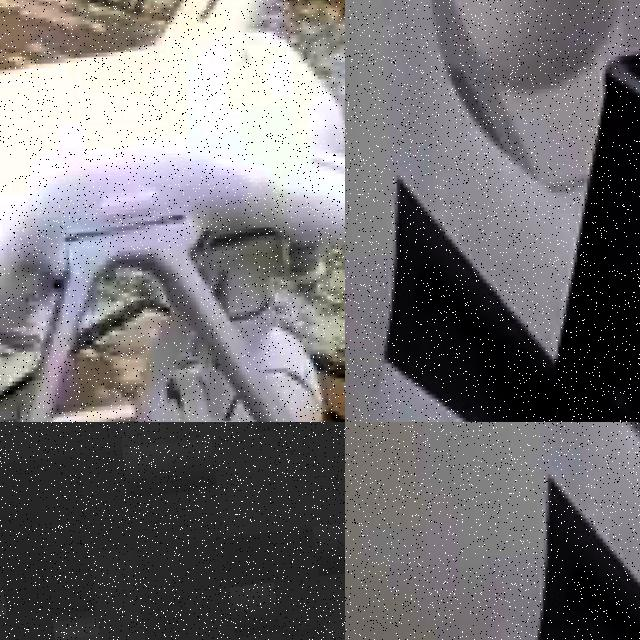drone: (0, 0, 345, 422), (345, 0, 640, 422), (345, 422, 640, 640)
